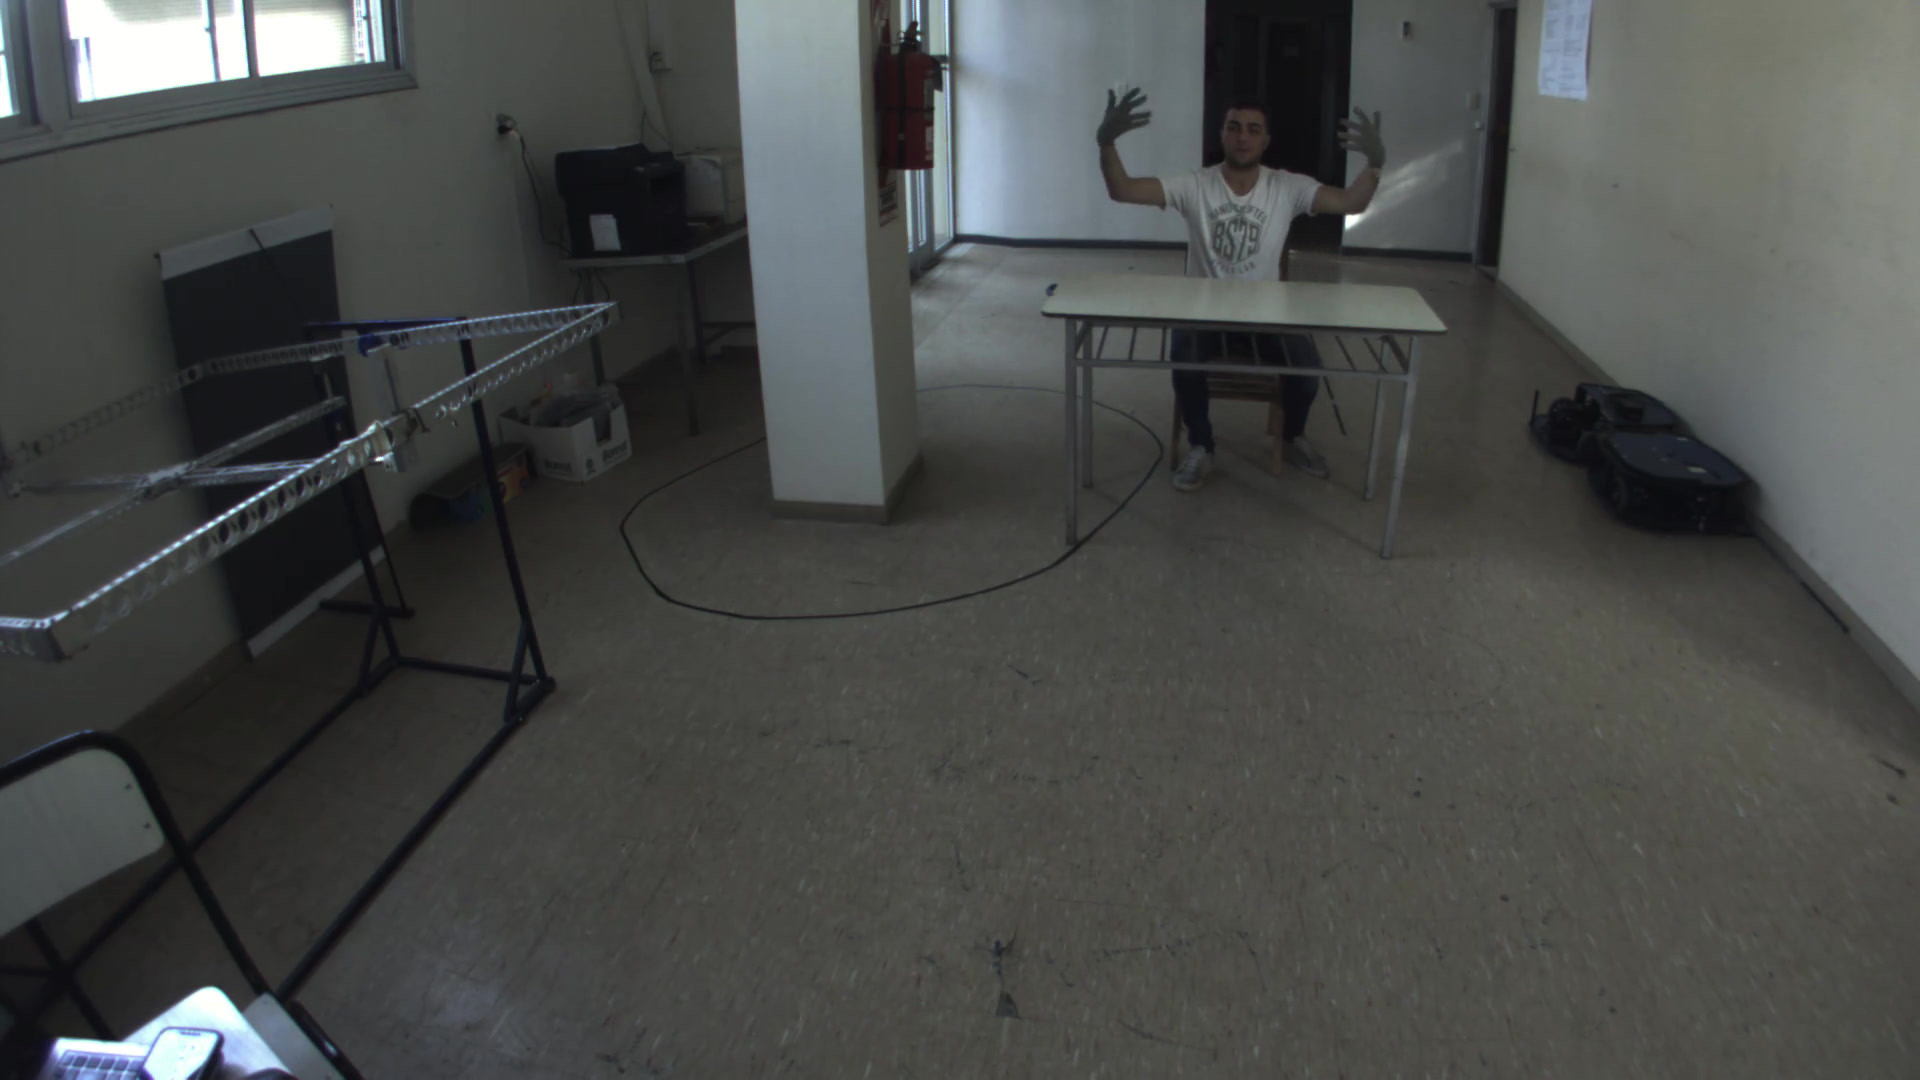hand: (1095, 80, 1164, 156), (1335, 105, 1393, 185)
